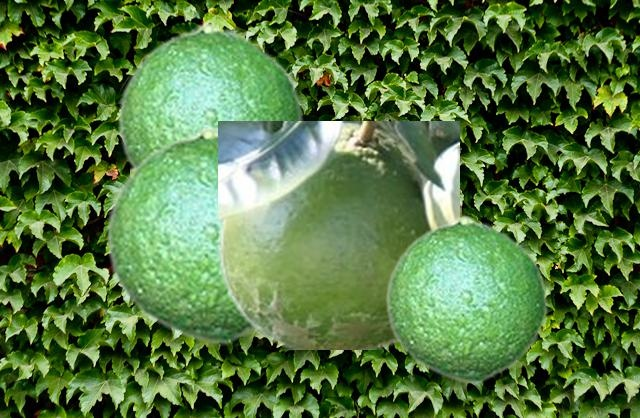dalandan: (218, 121, 458, 348), (104, 125, 257, 344), (116, 21, 303, 169), (384, 214, 547, 383)
